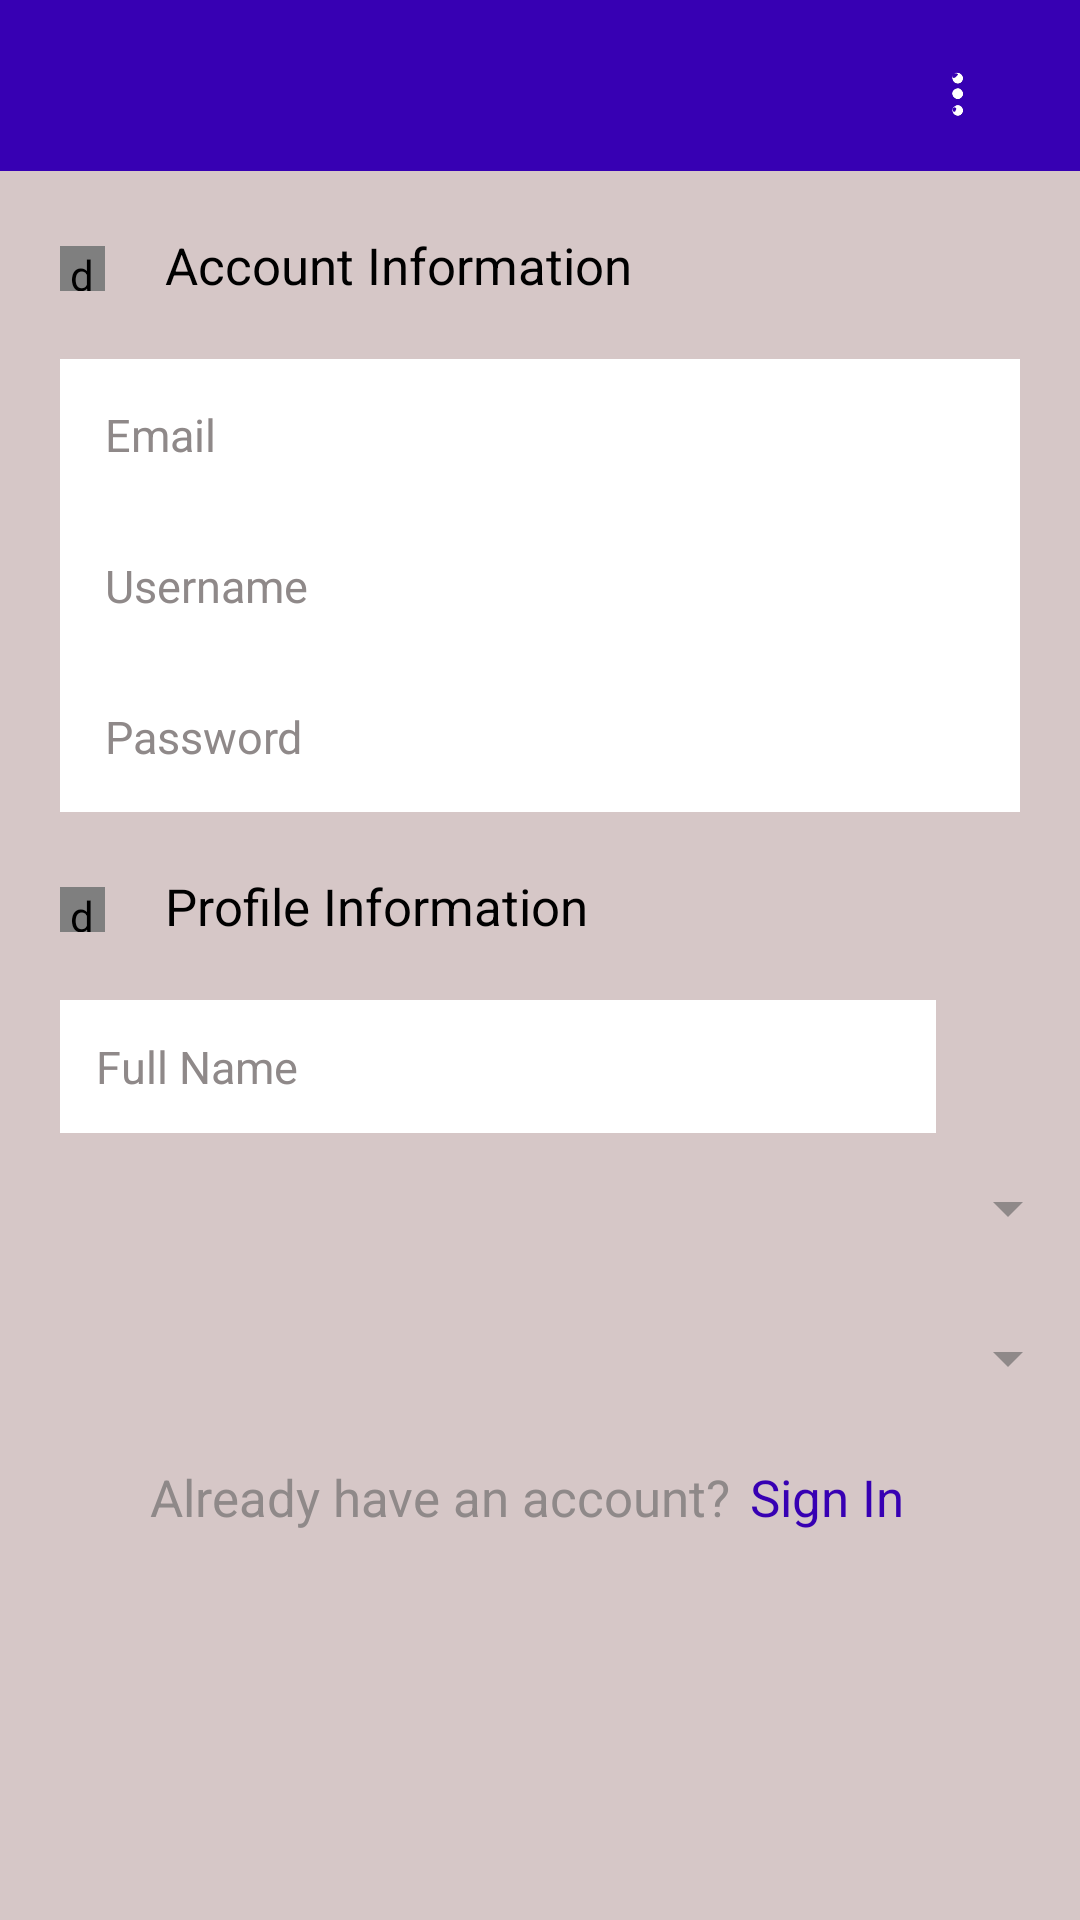

Locate icon controls on the screen. Image size 1080*1920, boxes as [x1,y1,x2,y2].
three dots: [952,72,963,116]
